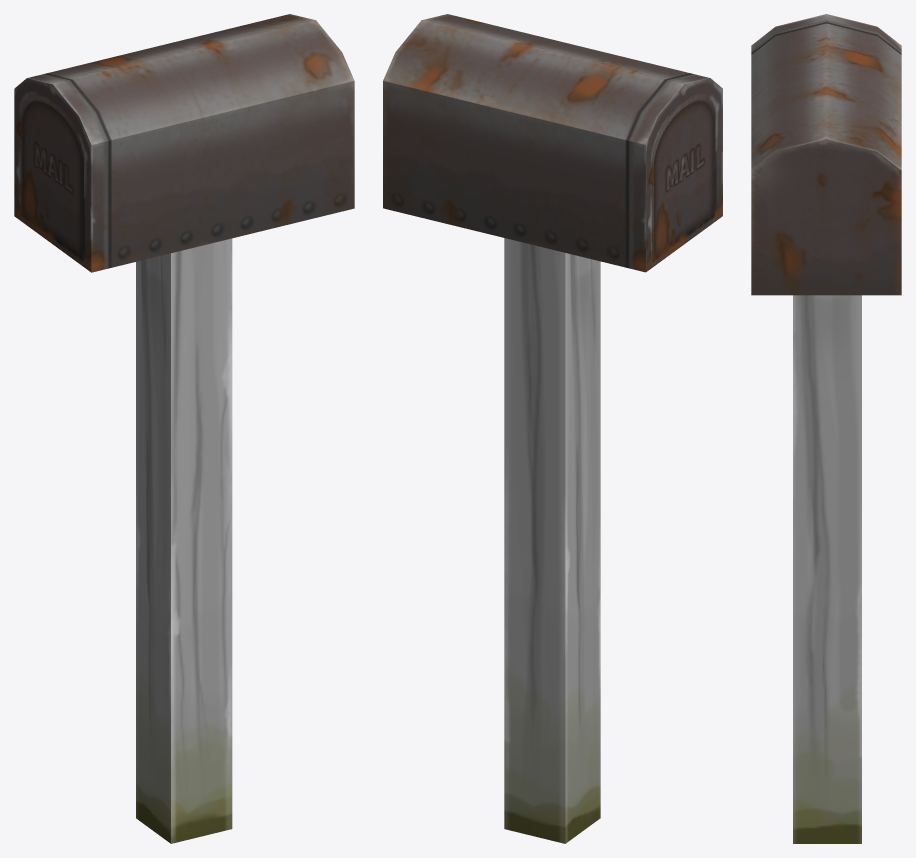
Rendered from mailBox04.fbx.
3 renders of one model, left to right at view 1: azimuth 30°, elevation 25°; view 2: azimuth 150°, elevation 25°; view 3: azimuth 270°, elevation 25°, orthographic. The views are drawn at different scales.
Visible parts, largest first — view 1: mailBox04; view 2: mailBox04; view 3: mailBox04.
Part boxes in pixels (x1,y1,x2,y2): mailBox04: (14,14,354,843); mailBox04: (383,14,722,843); mailBox04: (751,14,901,843).
Bounding box in the file's own units: 43.09 × 121 × 21.86.
